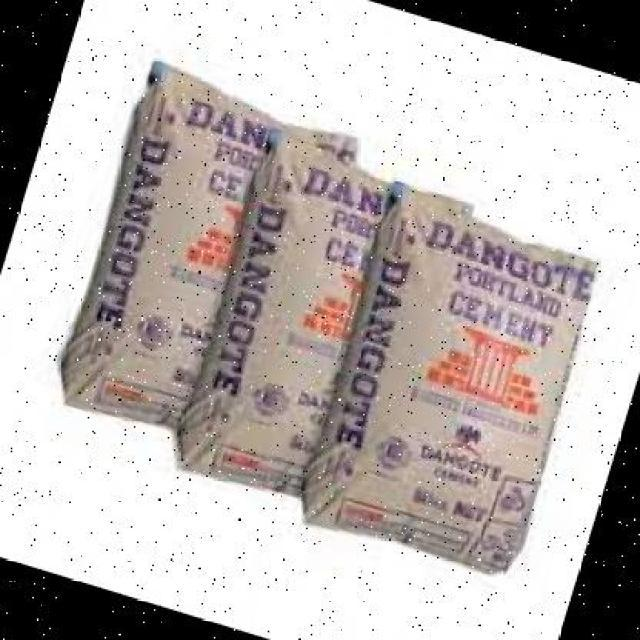gunny_bag: (300, 189, 596, 569), (53, 58, 287, 425), (176, 137, 387, 497)
